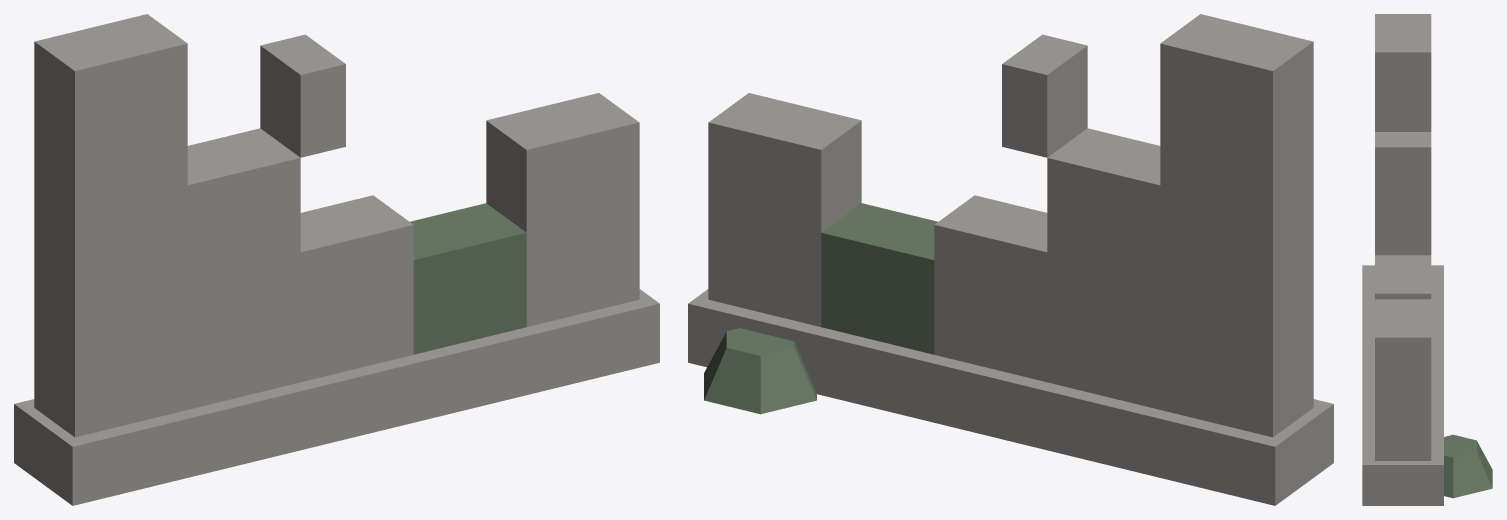
The model's file is abbey_wall.glb.
3 views of the same model, side by side, from view 1: azimuth 30°, elevation 25°; view 2: azimuth 150°, elevation 25°; view 3: azimuth 270°, elevation 25° (orthographic). The views are drawn at different scales.
Visible parts, largest first — view 1: abbey_wall; view 2: abbey_wall; view 3: abbey_wall.
Boxes of the visible parts, x1,y1,x2,y2 form: abbey_wall: (14, 14, 659, 505); abbey_wall: (688, 14, 1333, 505); abbey_wall: (1362, 14, 1492, 505).
Size of the model in its own units: 5.2 by 3.6 by 1.43.
